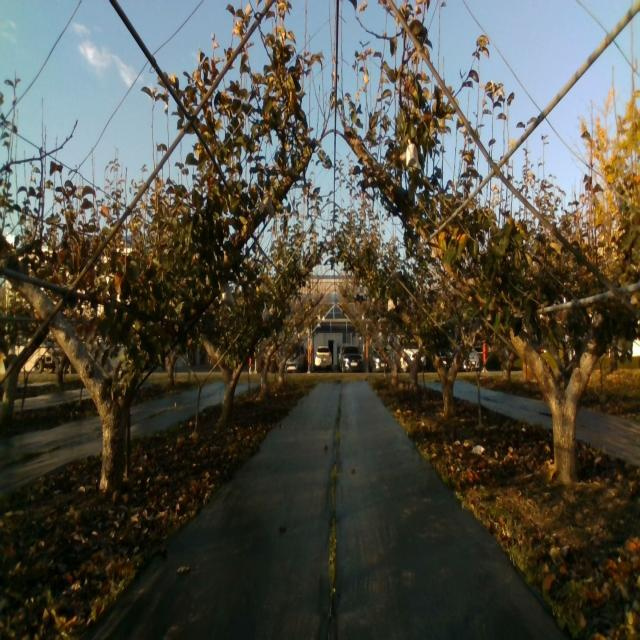pearbags: (406, 139, 420, 169), (219, 284, 234, 306), (260, 194, 274, 215)
